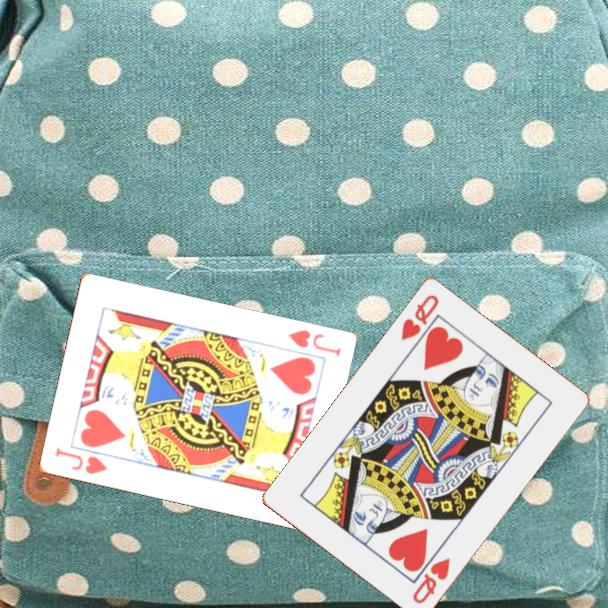h11: (51, 444, 110, 477), (284, 327, 343, 360)
h12: (397, 291, 442, 344), (409, 555, 453, 607)
